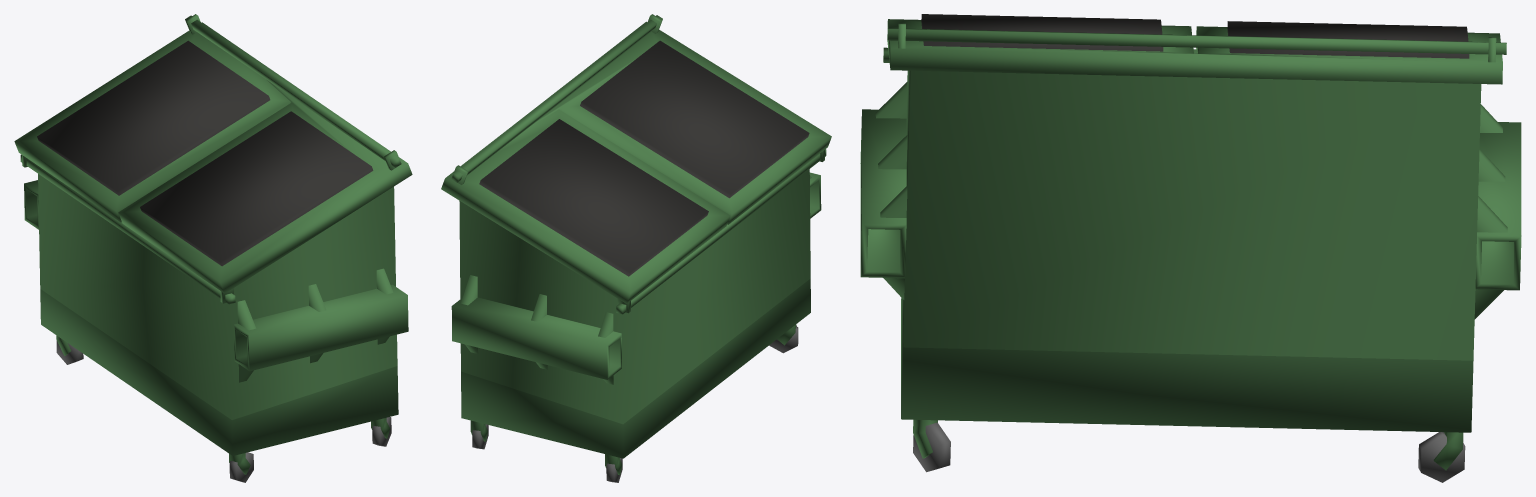
File: dumpster.fbx
3 views of the same model, side by side, from view 1: azimuth 30°, elevation 25°; view 2: azimuth 150°, elevation 25°; view 3: azimuth 270°, elevation 25° (orthographic). The views are drawn at different scales.
Visible parts, largest first — view 1: Trash_Big.005; view 2: Trash_Big.005; view 3: Trash_Big.005.
Boxes of the visible parts, <box> form: Trash_Big.005: <box>14,14,412,482</box>; Trash_Big.005: <box>441,14,831,482</box>; Trash_Big.005: <box>860,14,1521,482</box>.
Bounding box in the file's own units: 234 × 360 × 467.
1 material, 1 textured.
